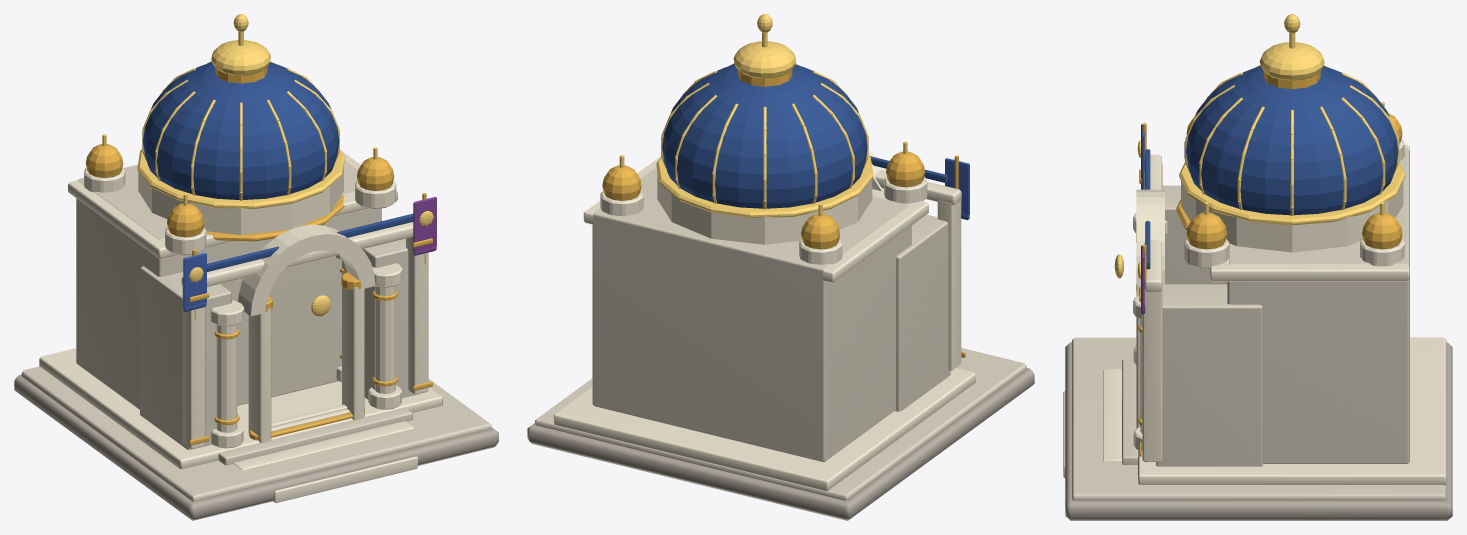
Rendered from templo_alva_e_luz.glb.
3 renders of one model, left to right at view 1: azimuth 30°, elevation 25°; view 2: azimuth 150°, elevation 25°; view 3: azimuth 270°, elevation 25°, orthographic. The views are drawn at different scales.
Parts seen in each view (by area): view 1: Nave | corpo posterior, Grande cúpula azul, Primeiro degrau, Nave | ala esquerda, Laje superior, Fundação quadrada, Tambor da cúpula, Portal | arco de pedra, Nave | ala direita, Pilastra de canto, Portal | ombreira, Pilastra de canto.001 (+24 smaller); view 2: Nave | corpo posterior, Grande cúpula azul, Laje superior, Fundação quadrada, Nave | ala esquerda, Primeiro degrau, Tambor da cúpula, Tambor | aro superior, Cornija lateral, Pilastra de canto, Coroamento da lanterna, Pináculo | cúpula.001 (+7 smaller); view 3: Nave | corpo posterior, Grande cúpula azul, Nave | ala direita, Primeiro degrau, Laje superior, Fundação quadrada, Tambor da cúpula, Pilastra de canto.001, Cornija lateral, Tambor | aro superior, Nave | ala esquerda, Coroamento da lanterna (+11 smaller).
Part boxes in pixels (<box>): Nave | corpo posterior: <box>76,160,381,409</box>; Grande cúpula azul: <box>143,62,339,199</box>; Primeiro degrau: <box>21,366,491,501</box>; Nave | ala esquerda: <box>140,266,231,449</box>; Laje superior: <box>39,348,442,468</box>; Fundação quadrada: <box>14,374,498,520</box>; Tambor da cúpula: <box>138,165,343,234</box>; Portal | arco de pedra: <box>238,224,375,316</box>; Nave | ala direita: <box>343,220,416,399</box>; Pilastra de canto: <box>182,287,205,449</box>; Portal | ombreira: <box>248,308,271,442</box>; Pilastra de canto.001: <box>406,236,428,394</box>; Nave | corpo posterior: <box>592,167,911,461</box>; Grande cúpula azul: <box>662,64,867,208</box>; Laje superior: <box>553,368,975,491</box>; Fundação quadrada: <box>527,368,1034,520</box>; Nave | ala esquerda: <box>895,214,950,411</box>; Primeiro degrau: <box>535,348,1026,500</box>; Tambor da cúpula: <box>657,172,872,244</box>; Tambor | aro superior: <box>656,156,873,217</box>; Cornija lateral: <box>583,156,928,283</box>; Pilastra de canto: <box>937,200,961,370</box>; Coroamento da lanterna: <box>733,41,795,78</box>; Pináculo | cúpula.001: <box>801,213,840,249</box>; Nave | corpo posterior: <box>1227,148,1409,463</box>; Grande cúpula azul: <box>1186,66,1398,215</box>; Nave | ala direita: <box>1156,284,1262,466</box>; Primeiro degrau: <box>1072,337,1445,500</box>; Laje superior: <box>1138,337,1446,485</box>; Fundação quadrada: <box>1065,342,1452,520</box>; Tambor da cúpula: <box>1181,181,1403,252</box>; Pilastra de canto.001: <box>1142,282,1162,461</box>; Cornija lateral: <box>1210,144,1409,281</box>; Tambor | aro superior: <box>1179,162,1405,225</box>; Nave | ala esquerda: <box>1162,185,1225,284</box>; Coroamento da lanterna: <box>1259,42,1324,80</box>.
Size of the model in its own units: 5.72 by 6.95 by 5.75.
